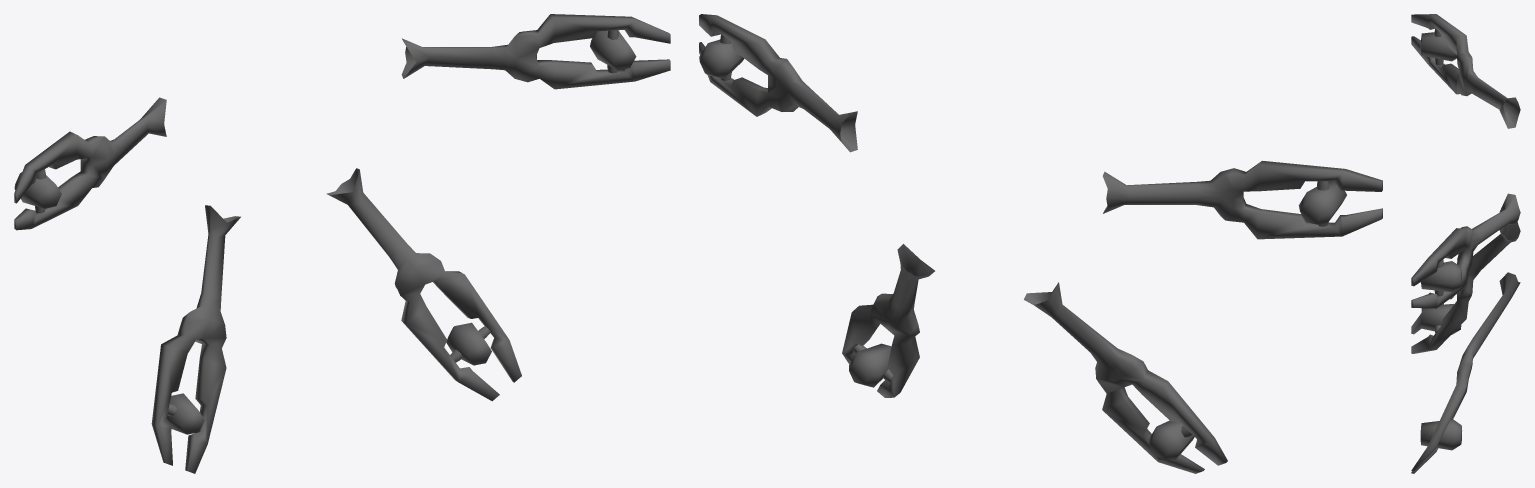
Rendered from MotoresOrbita.fbx.
3 renders of one model, left to right at view 1: azimuth 30°, elevation 25°; view 2: azimuth 150°, elevation 25°; view 3: azimuth 270°, elevation 25°, orthographic. The views are drawn at different scales.
Parts seen in each view (by area): view 1: Cube_001; view 2: Cube_001; view 3: Cube_001.
Part boxes in pixels (x1,y1,x2,y2): Cube_001: (14, 14, 670, 473); Cube_001: (699, 14, 1382, 473); Cube_001: (1411, 14, 1520, 473).
Size of the model in its own units: 4.1 by 2.04 by 0.717.
Materials: 1 (1 with a texture image).
